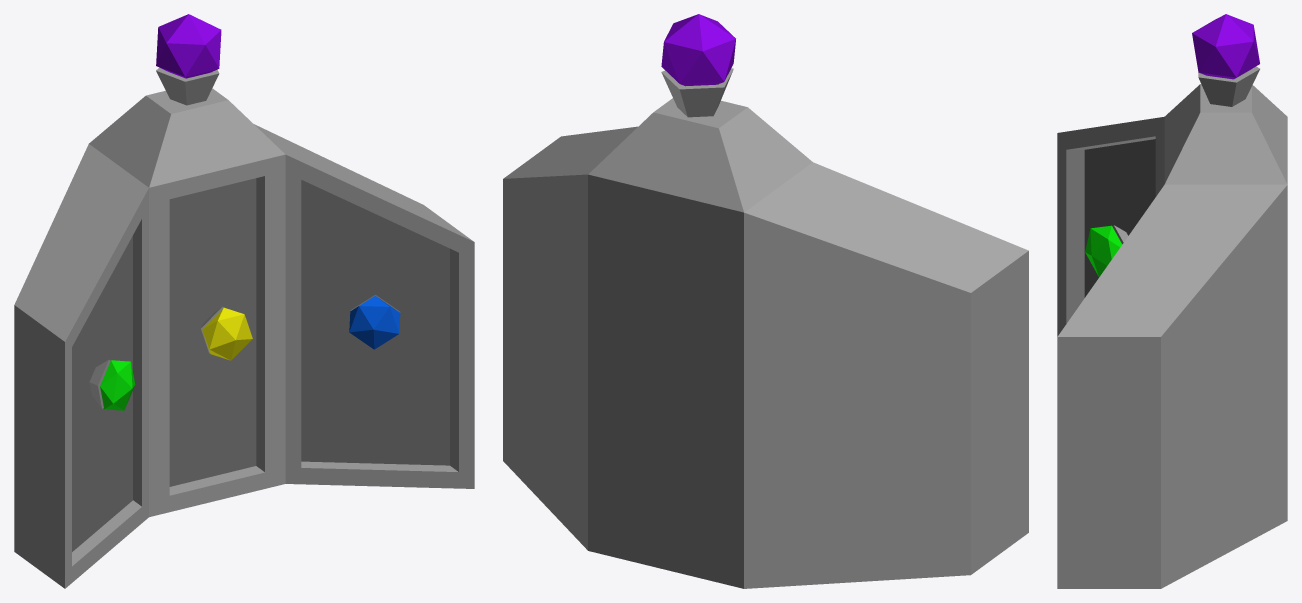
Rendered from TreeShrine.fbx.
The picture shows the model from 3 angles, left to right: view 1: azimuth 30°, elevation 25°; view 2: azimuth 150°, elevation 25°; view 3: azimuth 270°, elevation 25°; orthographic projection. The views are drawn at different scales.
Parts seen in each view (by area): view 1: TreeShrineBody; view 2: TreeShrineBody; view 3: TreeShrineBody.
Part boxes in pixels (<box>): TreeShrineBody: <box>14,14,474,588</box>; TreeShrineBody: <box>503,14,1028,588</box>; TreeShrineBody: <box>1057,14,1287,588</box>.
Bounding box in the file's own units: 206 × 223 × 98.36.
